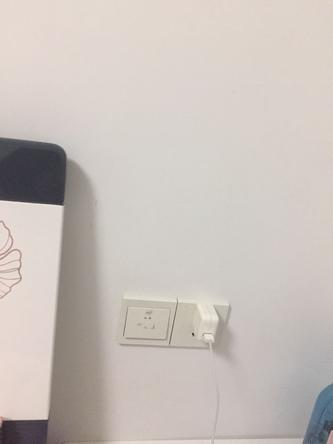switch: (124, 302, 170, 340)
